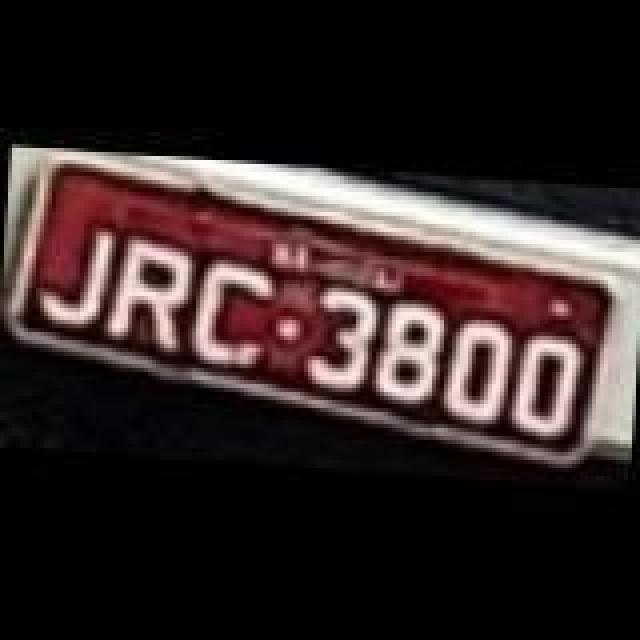3: (302, 286, 386, 402)
8: (378, 298, 446, 406)
C: (184, 264, 280, 376)
J: (30, 220, 122, 332)
O: (440, 320, 520, 432), (506, 330, 582, 438)
R: (106, 228, 198, 348)
